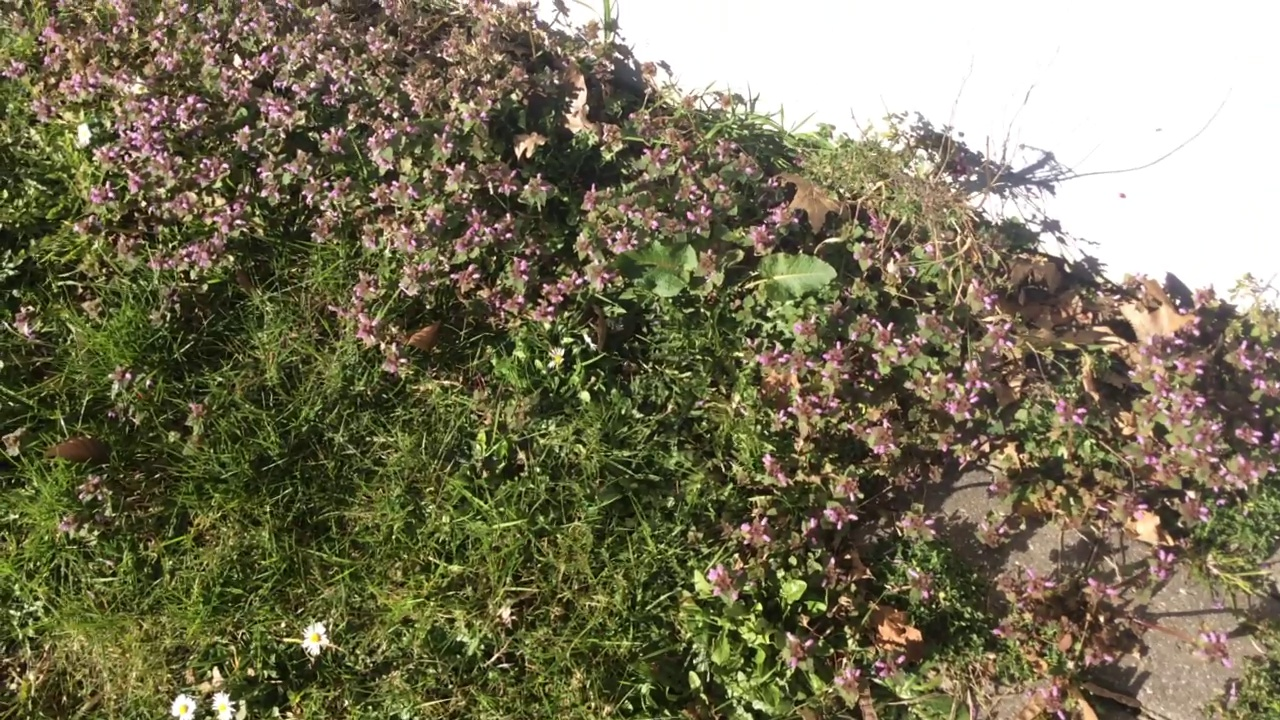rumex: (607, 242, 838, 303)
